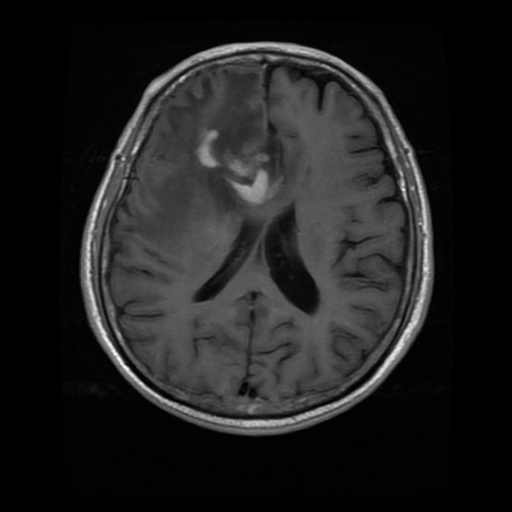glioma: (152, 95, 272, 226)
